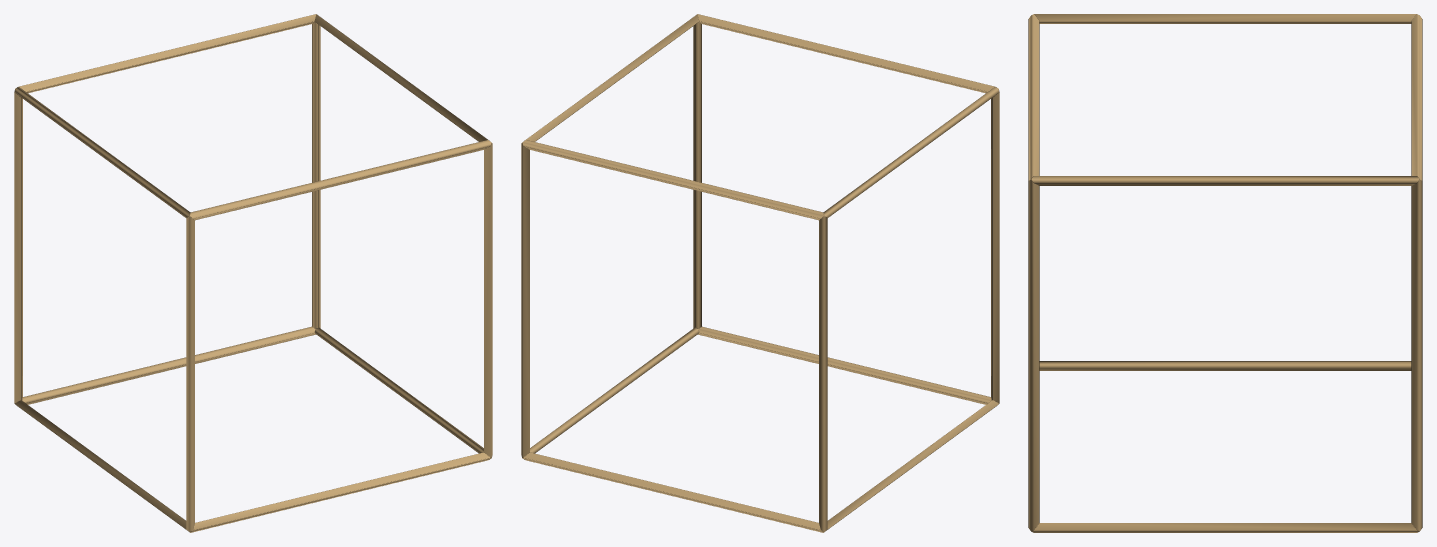
The picture shows the model from 3 angles, left to right: view 1: azimuth 30°, elevation 25°; view 2: azimuth 150°, elevation 25°; view 3: azimuth 270°, elevation 25°; orthographic projection. The views are drawn at different scales.
Parts seen in each view (by area): view 1: arete-X2, arete-X0, arete-Z0, arete-X3, arete-Z1, arete-Z2, arete-X1, arete-Z3, arete-Y2, arete-Y0, arete-Y3, arete-Y1 (+1 smaller); view 2: arete-X3, arete-X1, arete-Z2, arete-X2, arete-Z3, arete-Z0, arete-X0, arete-Z1, arete-Y2, arete-Y0, arete-Y3, arete-Y1 (+1 smaller); view 3: arete-Z1, arete-Z3, arete-Y3, arete-Y1, arete-Y2, arete-Y0, arete-X2, arete-X3, arete-wire-Z1, arete-wire-Z3.
Boxes of the visible parts, x1,y1,x2,y2 form: arete-X2: (190,140,491,220); arete-X0: (190,452,491,532); arete-Z0: (186,216,194,531); arete-X3: (19,14,316,93); arete-Z1: (484,143,492,457); arete-Z2: (14,92,22,403); arete-X1: (22,326,315,404); arete-Z3: (312,22,320,328); arete-Y2: (14,86,190,217); arete-Y0: (15,400,186,529); arete-Y3: (315,14,487,141); arete-Y1: (314,327,483,453); arete-X3: (522,140,823,220); arete-X1: (522,452,823,532); arete-Z2: (819,216,827,531); arete-X2: (697,14,994,93); arete-Z3: (521,143,529,457); arete-Z0: (991,92,999,403); arete-X0: (698,326,991,404); arete-Z1: (693,22,701,328); arete-Y2: (823,86,999,217); arete-Y0: (827,400,998,529); arete-Y3: (526,14,698,141); arete-Y1: (530,327,699,453); arete-Z1: (1028,180,1039,531); arete-Z3: (1411,180,1422,531); arete-Y3: (1031,176,1419,185); arete-Y1: (1031,523,1419,532); arete-Y2: (1034,14,1416,23); arete-Y0: (1039,361,1411,370); arete-X2: (1028,14,1039,180); arete-X3: (1411,14,1422,180); arete-wire-Z1: (1028,181,1039,527); arete-wire-Z3: (1411,181,1422,527).
Bounding box in the file's own units: 2.03 × 2.03 × 2.03.
